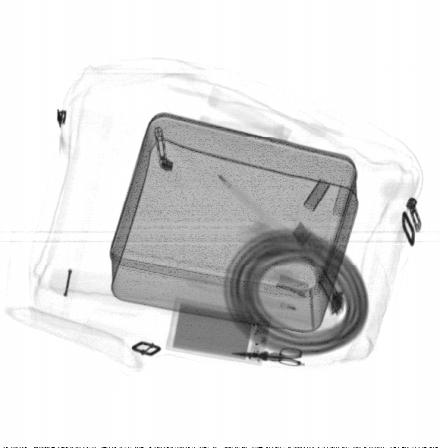Powerbank: (165, 295, 275, 368)
Scissors: (233, 344, 307, 368)
